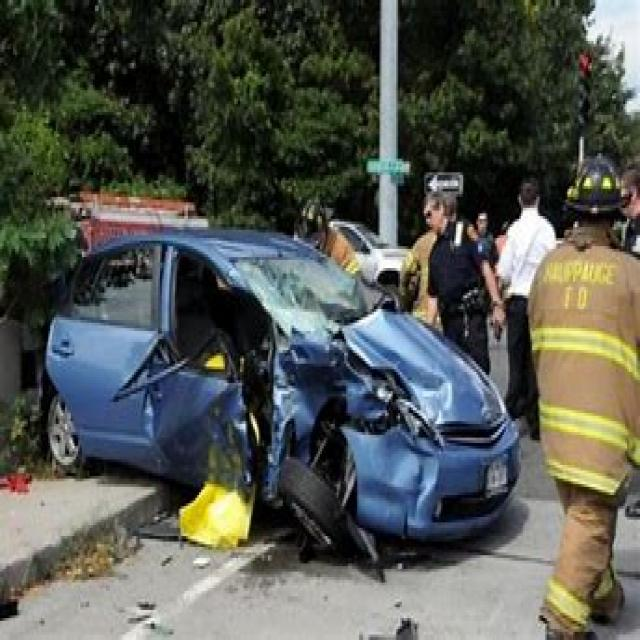Accident: (120, 159, 482, 623)
